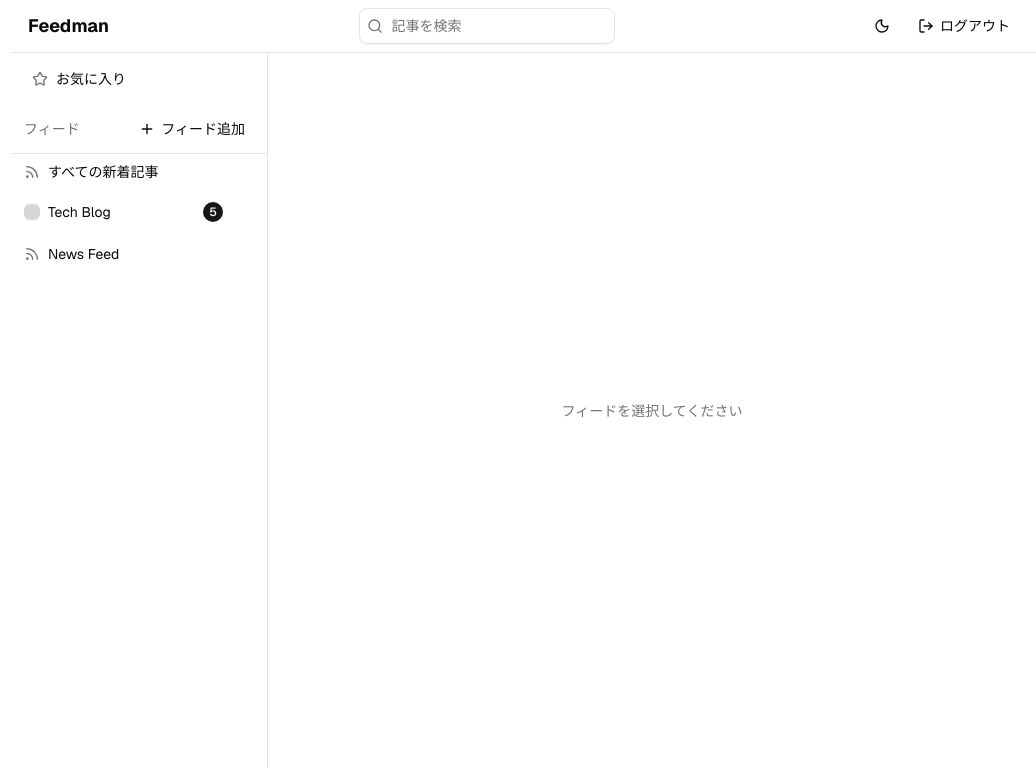
AppShell コンポーネント › 検索モード中はフィード選択メッセージが消え、検索結果コンテナが描画されること（Req 4.7）
フィードを選択 → ItemList が表示される
Click the text "Tech Blog" at point(79, 212), box [48, 203, 111, 221]
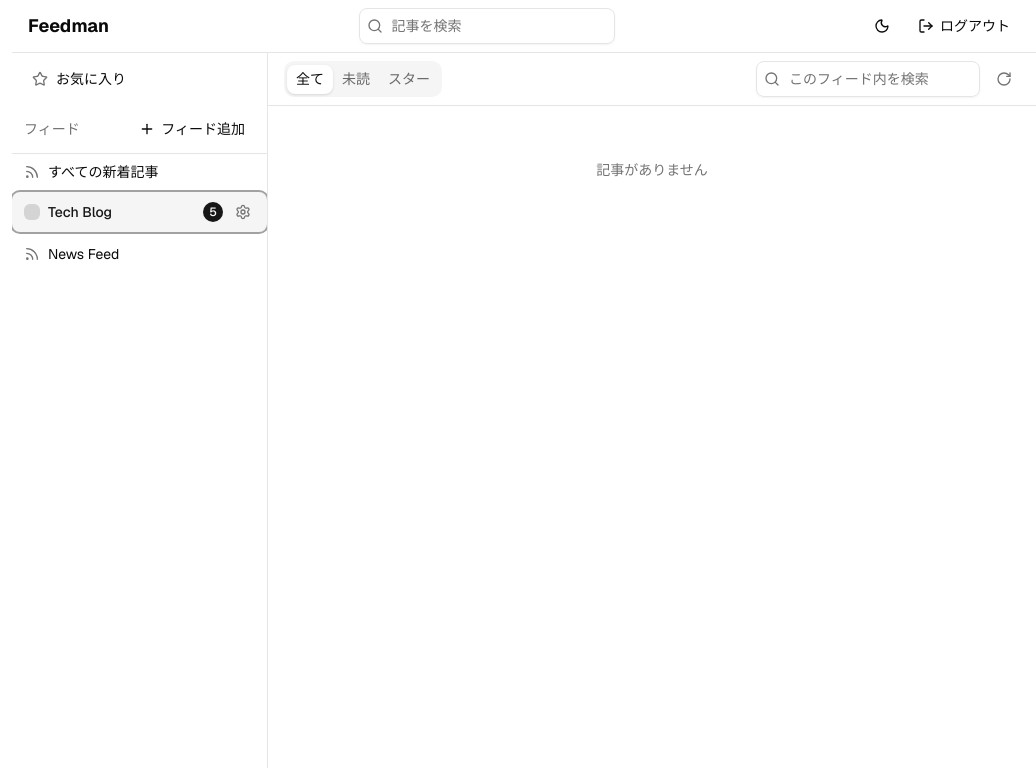
Result: the tab "全て" is shown at [287, 64, 333, 94]
ヘッダー検索バーで横断検索を実行 → 右ペインは SearchResults に切り替わる
Type "anything" into the search field with test id "header-search-input" at point(486, 26), box [358, 8, 614, 44]
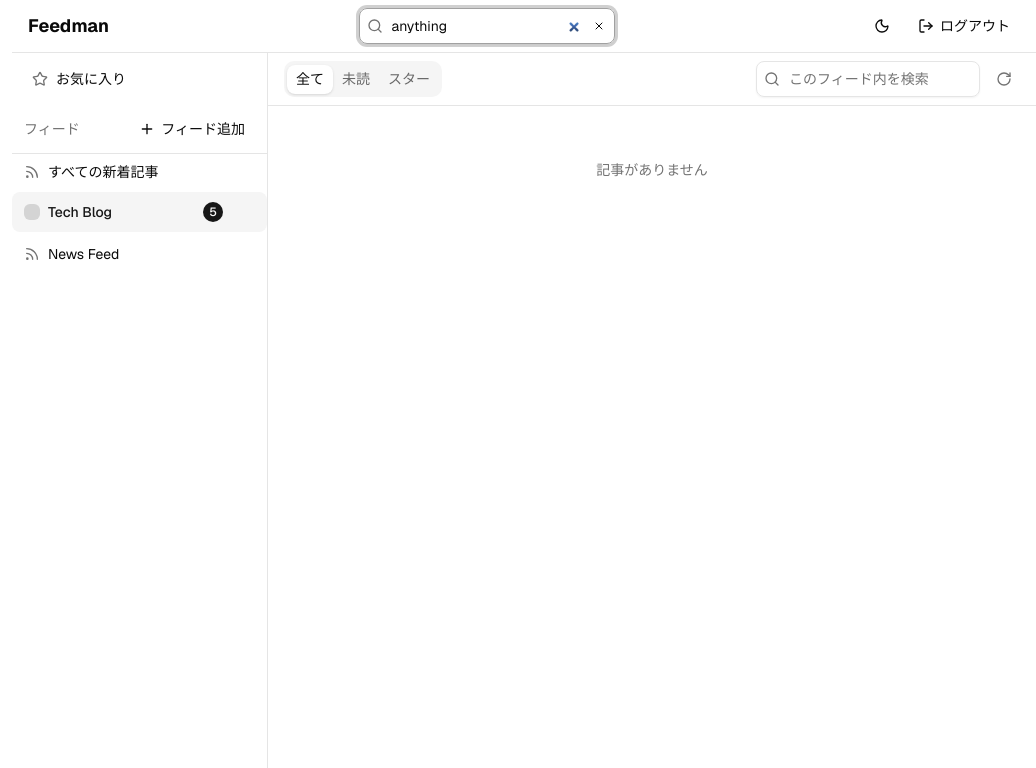
Press Enter
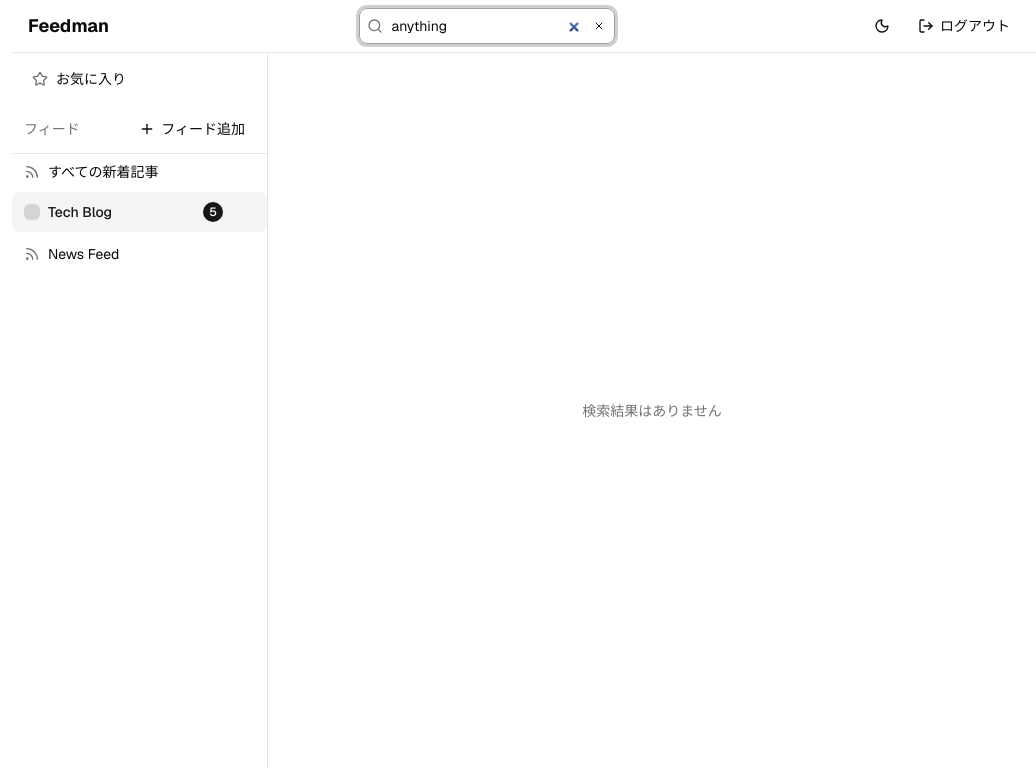
Result: the text "検索結果はありません" is shown at [582, 402, 722, 420]
Result: the tab "全て" is gone
